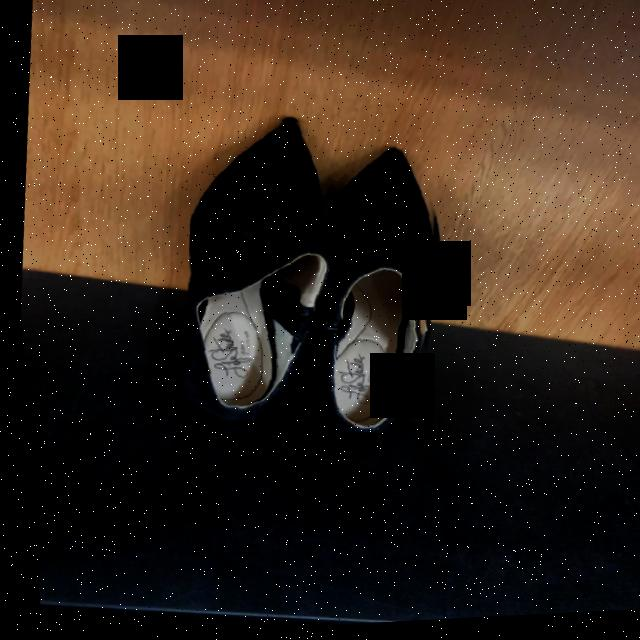shoe: (178, 123, 428, 437)
